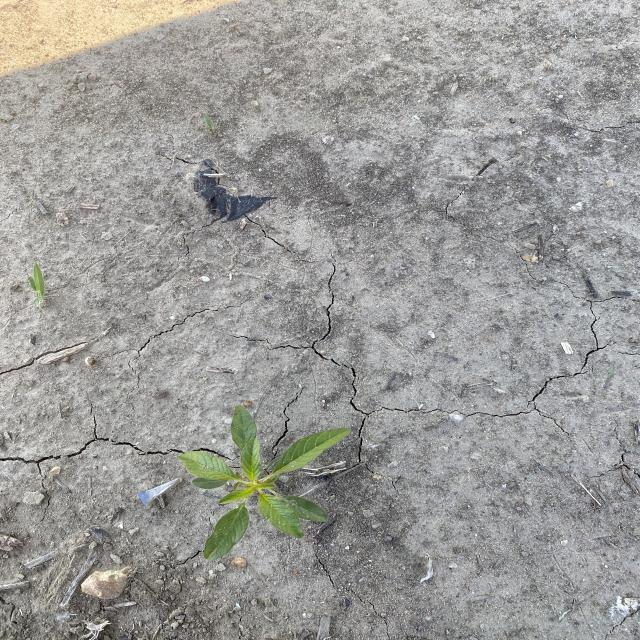Waterhemp: (176, 404, 356, 564)
